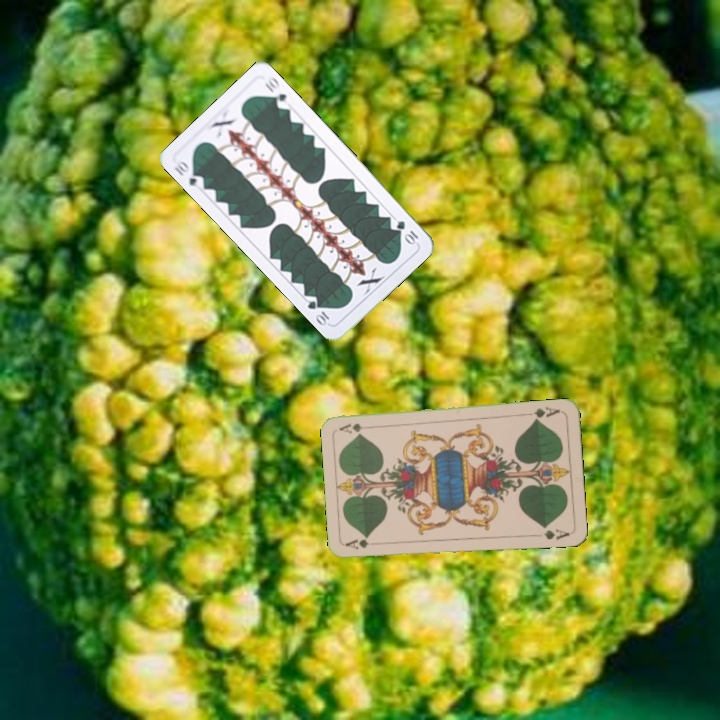G10: (169, 156, 207, 192), (392, 216, 421, 248)
GA: (342, 535, 383, 552), (530, 403, 562, 423)
